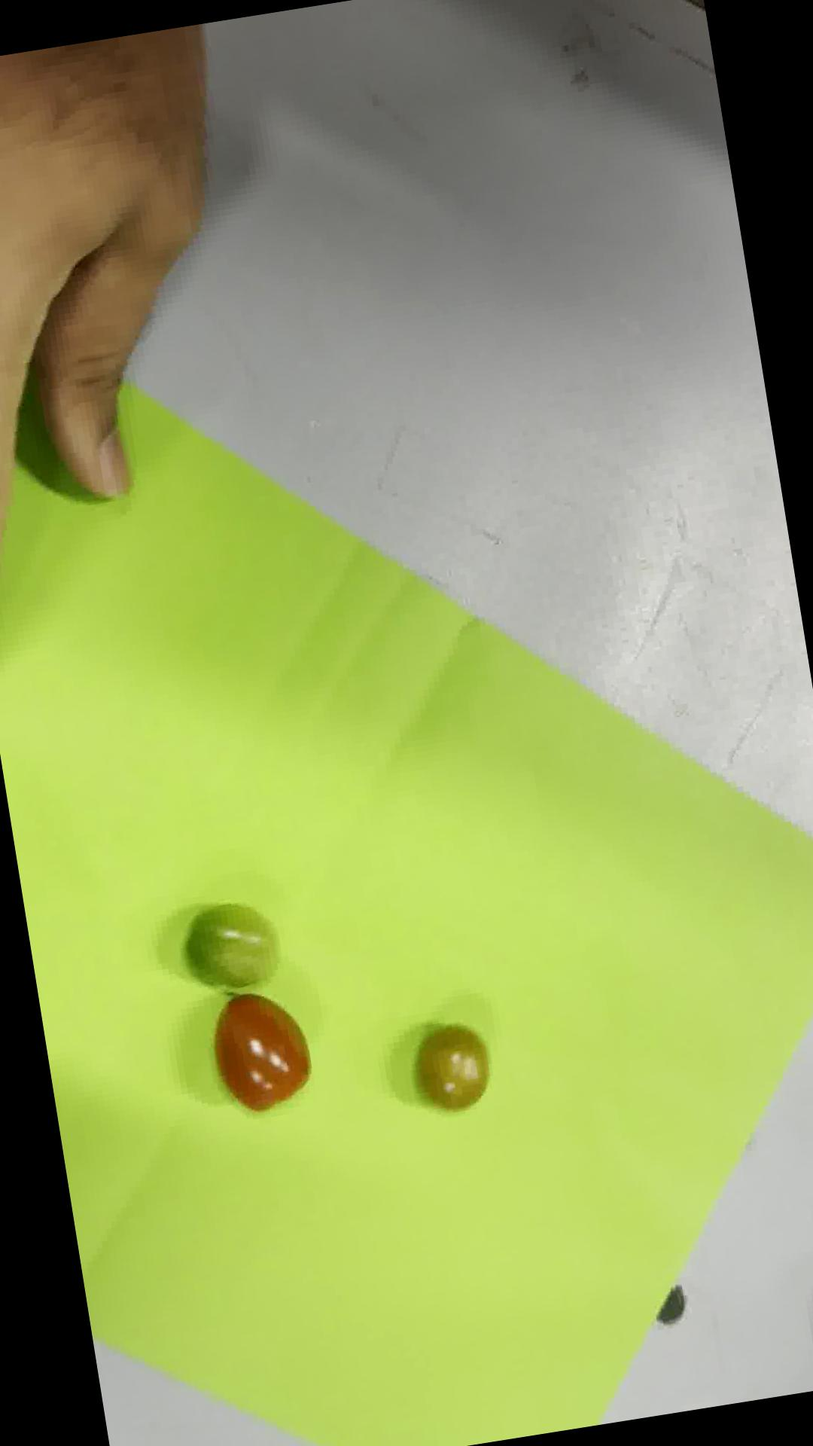green_cherry_tomato: (185, 903, 278, 991)
red_cherry_tomato: (214, 993, 311, 1111)
yellow_cherry_tomato: (416, 1025, 488, 1109)
